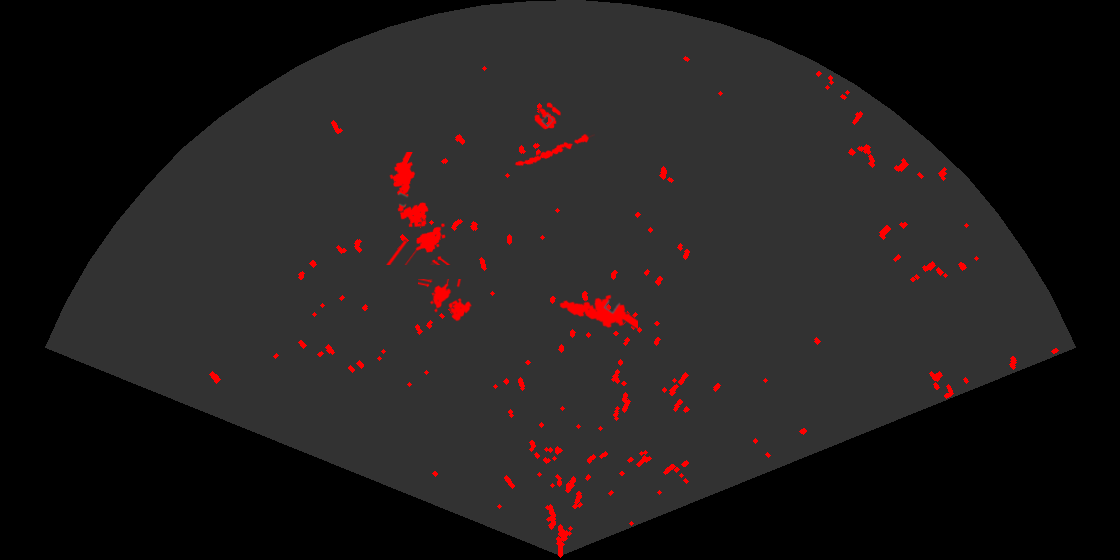ball: (533, 101, 563, 131)
cage: (385, 201, 452, 265), (418, 279, 473, 323)
chain: (513, 132, 595, 168)
frogman: (558, 293, 638, 331), (388, 152, 417, 216)
